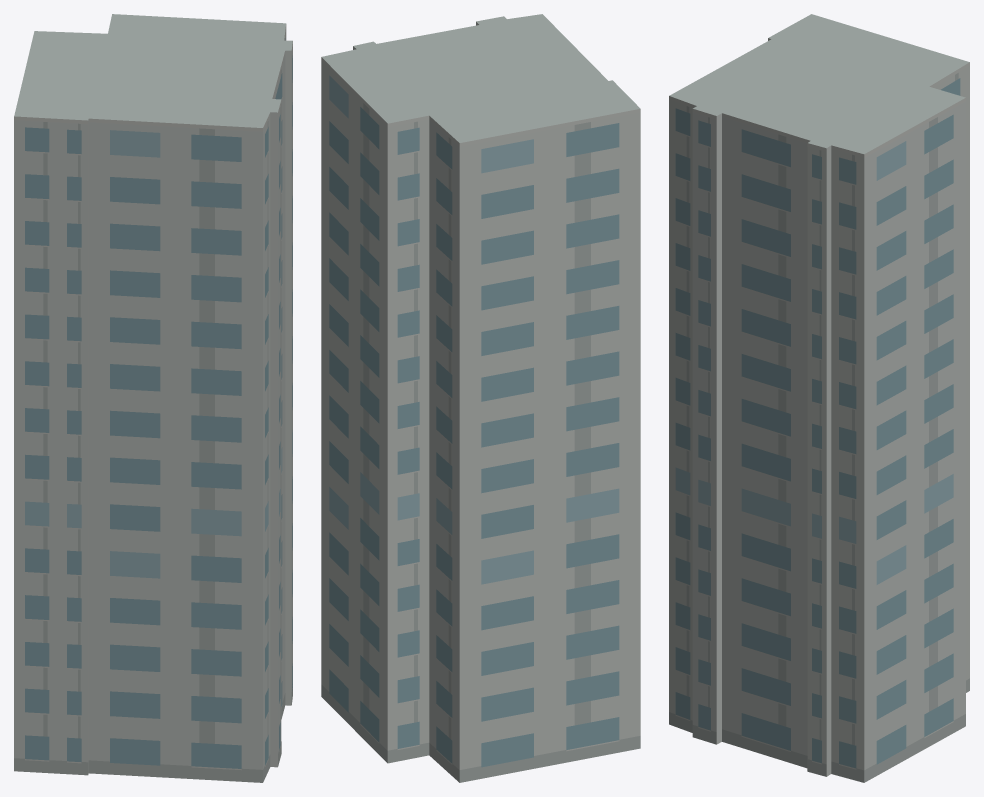
Rendered from residential-d05fe988-8ac1-4607-b4e3-bcea9b87a91c.glb.
3 renders of one model, left to right at view 1: azimuth 30°, elevation 25°; view 2: azimuth 150°, elevation 25°; view 3: azimuth 270°, elevation 25°, orthographic. The views are drawn at different scales.
Parts seen in each view (by area): view 1: residential-d05fe988-8ac1-4607-b4e3-bcea9b87a91c.tmp; view 2: residential-d05fe988-8ac1-4607-b4e3-bcea9b87a91c.tmp; view 3: residential-d05fe988-8ac1-4607-b4e3-bcea9b87a91c.tmp.
Boxes of the visible parts, bbox=[...] form: residential-d05fe988-8ac1-4607-b4e3-bcea9b87a91c.tmp: bbox=[14, 14, 292, 782]; residential-d05fe988-8ac1-4607-b4e3-bcea9b87a91c.tmp: bbox=[321, 14, 640, 782]; residential-d05fe988-8ac1-4607-b4e3-bcea9b87a91c.tmp: bbox=[669, 14, 969, 782].
Bounding box in the file's own units: 20.11 × 42 × 18.22.
